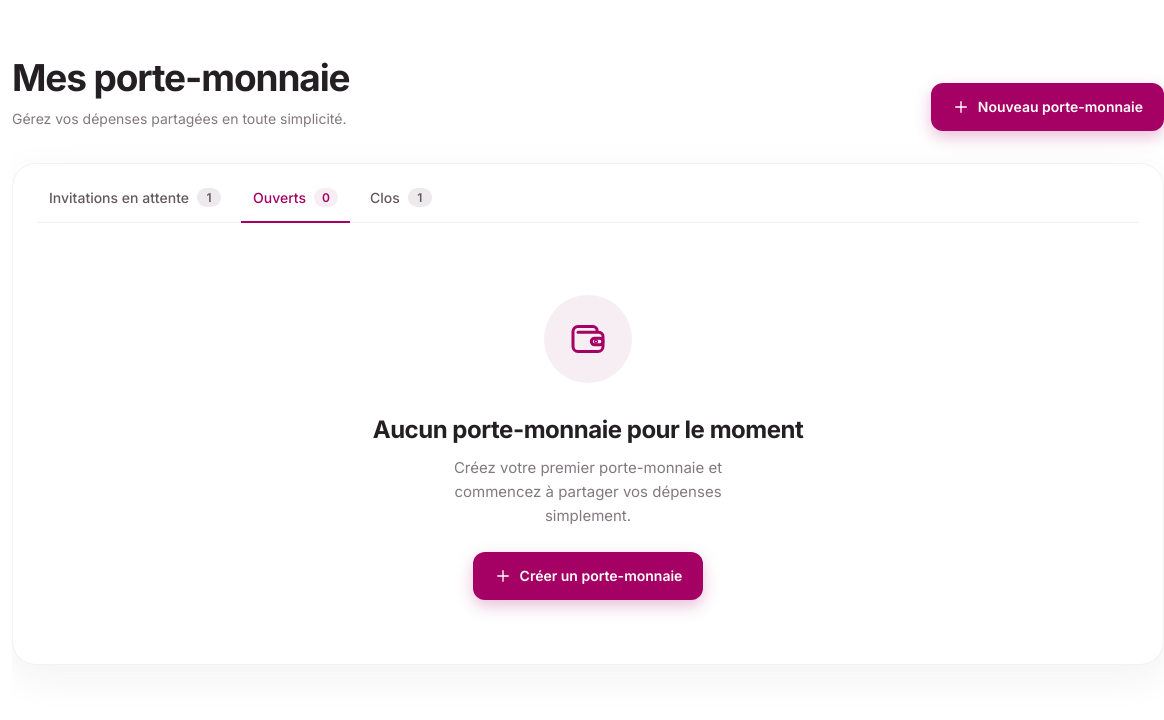
Test: tableau de bord › affiche les sections clos et invitations dans leur onglet
Click the tab "Clos 1" at [401, 193], box [358,164,444,223]
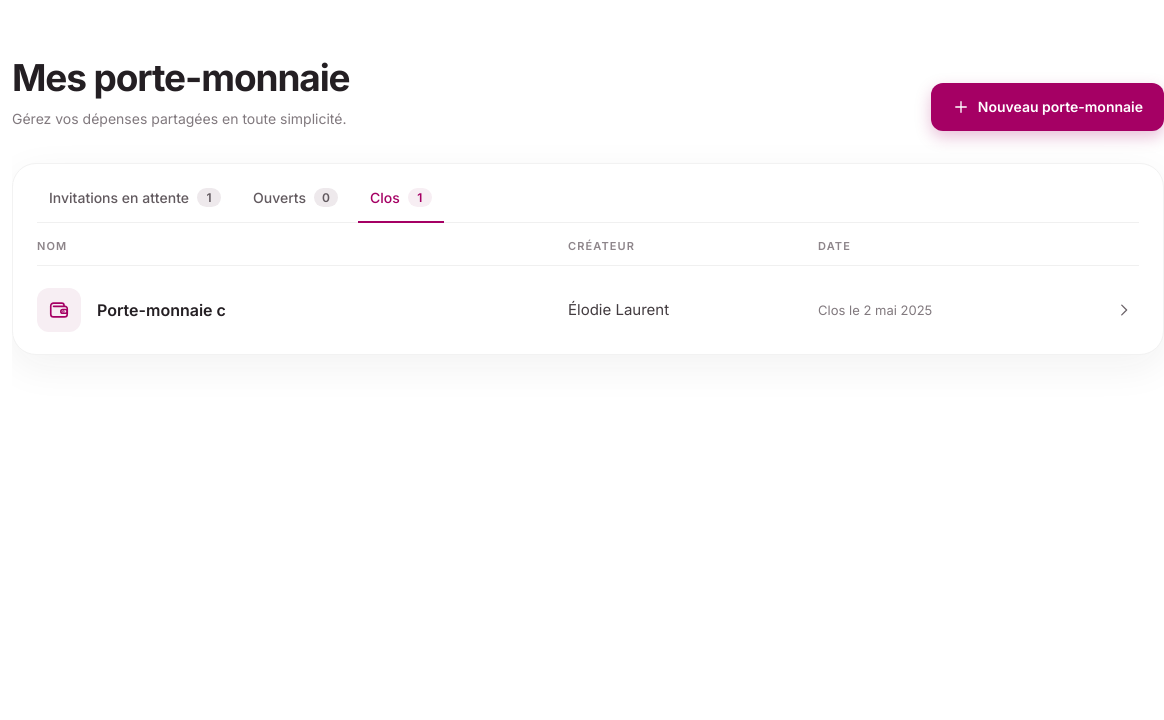
Now the text "Clos le 2 mai 2025" is shown, box [818,302,932,318]
Click the tab "Invitations en attente 1" at [135, 193], box [37,164,233,223]
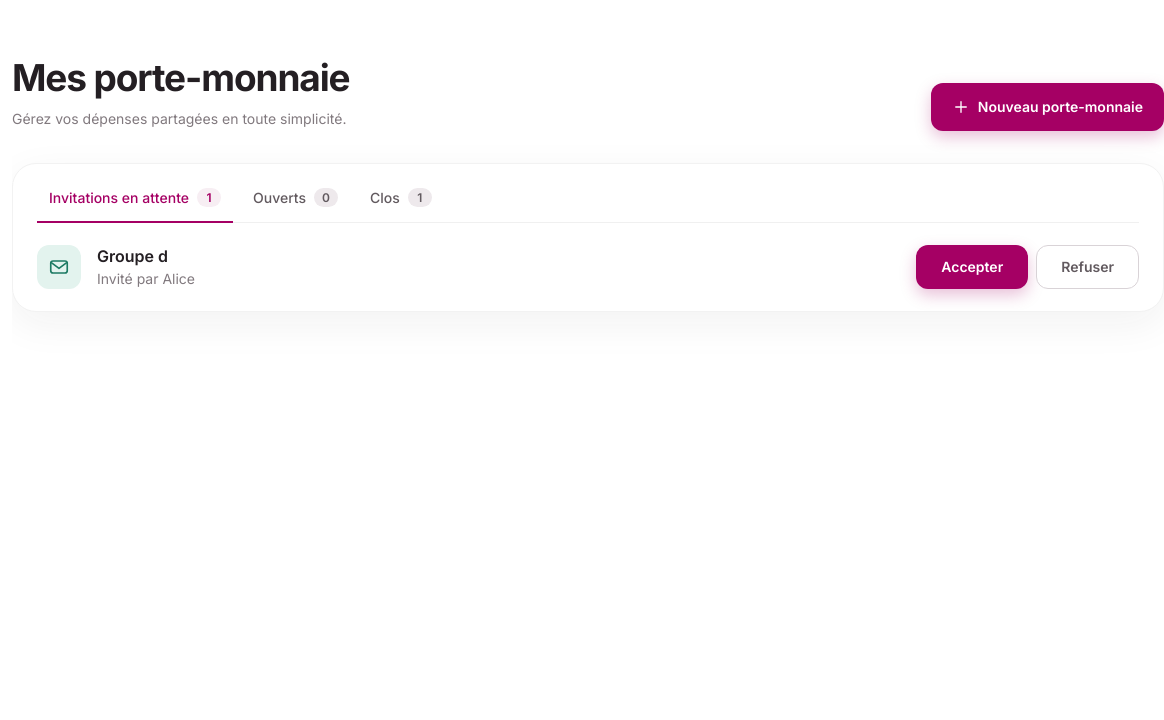
Now the text "Invité par Alice" is shown, box [97,270,195,287]
Now the link "Porte-monnaie c" is gone
